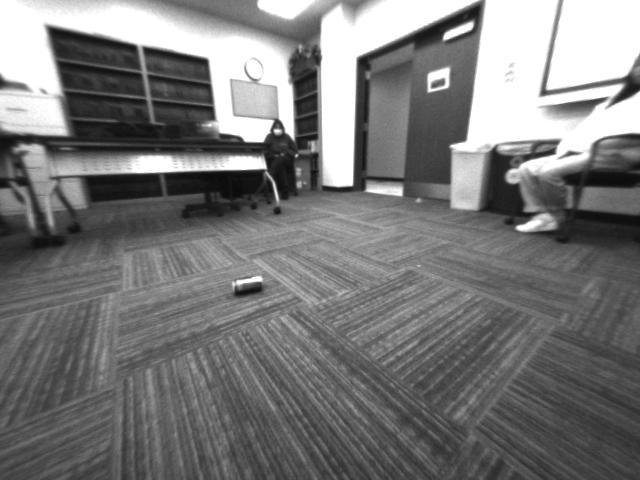can: (228, 271, 268, 301)
